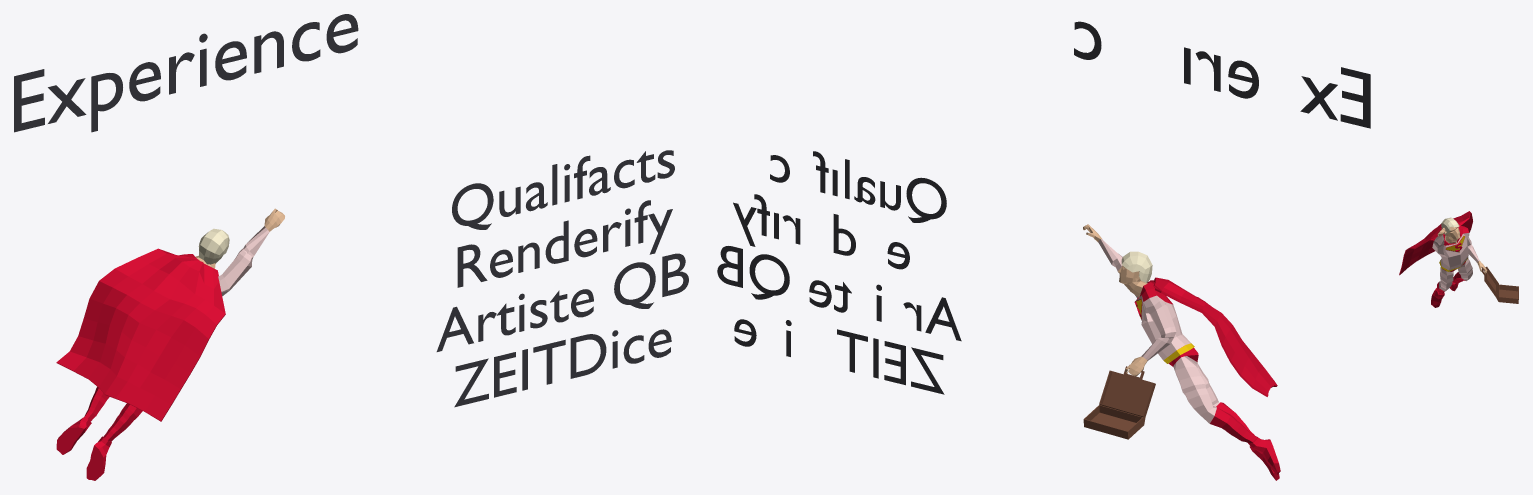
File: experience.glb
3 views of the same model, side by side, from view 1: azimuth 30°, elevation 25°; view 2: azimuth 150°, elevation 25°; view 3: azimuth 270°, elevation 25° (orthographic). The views are drawn at different scales.
Visible parts, largest first — view 1: Cube.091, ExpList, ExpHead; view 2: Cube.091, ExpList, ExpHead, Cube; view 3: Cube.091, Cube.
Boxes of the visible parts, <box> form: Cube.091: <box>56,208,284,480</box>; ExpList: <box>436,150,688,407</box>; ExpHead: <box>14,14,358,132</box>; Cube.091: <box>1083,224,1280,480</box>; ExpList: <box>717,151,961,394</box>; ExpHead: <box>1074,21,1370,128</box>; Cube: <box>1083,366,1155,439</box>; Cube.091: <box>1399,211,1487,307</box>; Cube: <box>1482,266,1518,303</box>.
Bounding box in the file's own units: 5.88 × 3.65 × 1.47.
